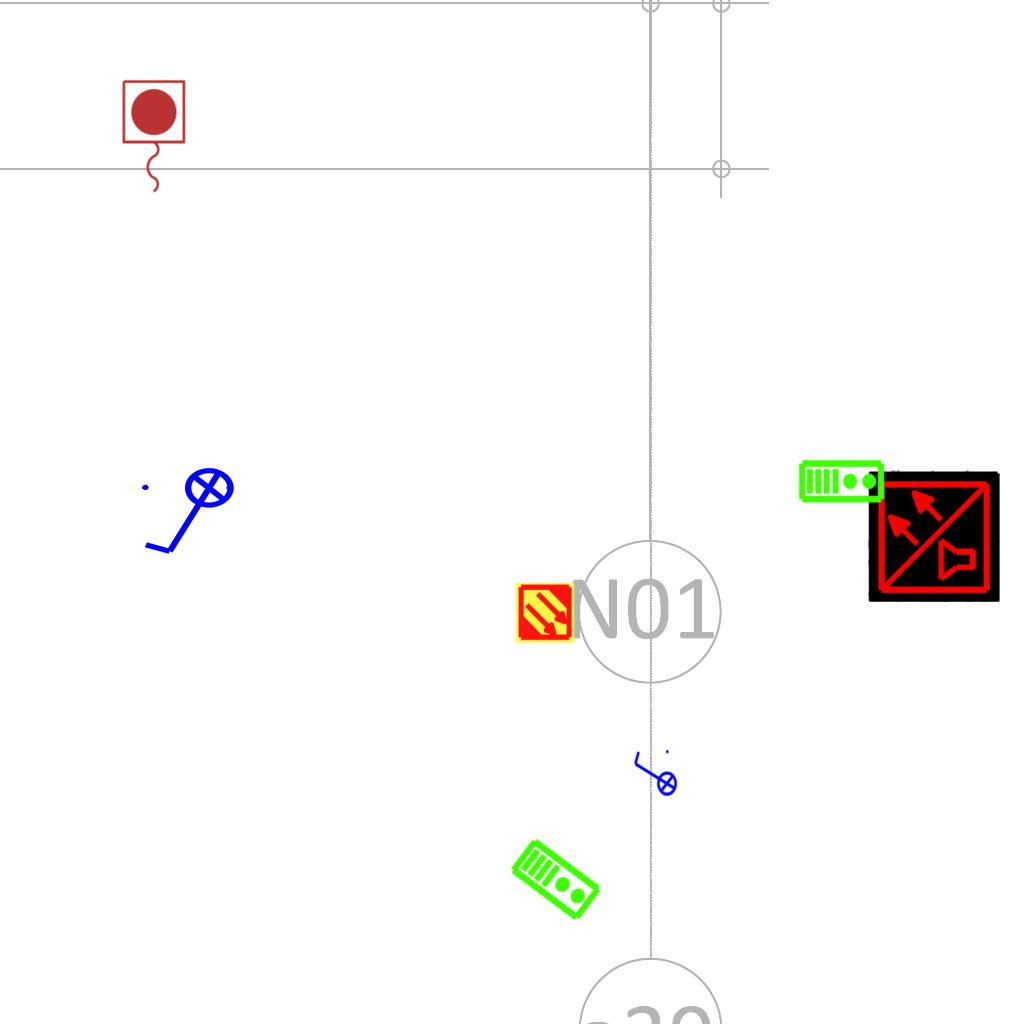ASR_Ansaugrauchmelder: (514, 582, 576, 644)
Ausschalter_beleuchtet: (136, 466, 248, 562), (630, 747, 678, 803)
Gegensprechanlage_mit_Video: (507, 833, 606, 925), (798, 457, 886, 504)
OKW_Multisensormelder_(Kombination_optischer_Rauch-Kahlenmonoxid_Waerme-Melder): (868, 470, 1000, 602)
Zugtaster: (117, 76, 189, 198)
